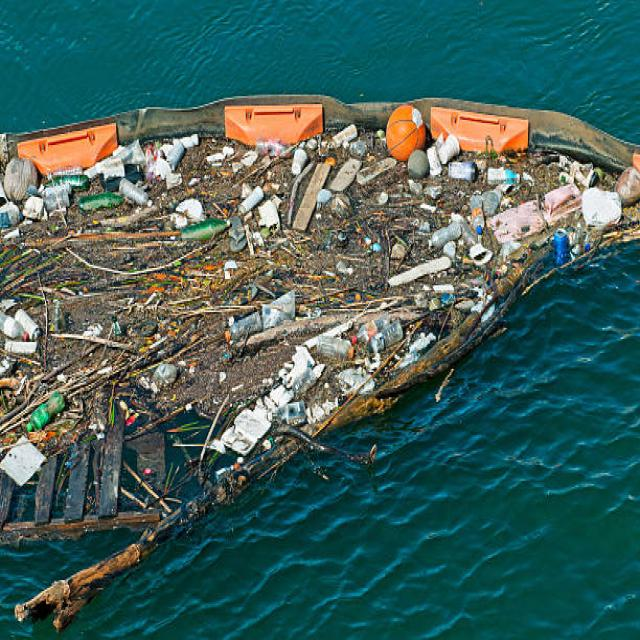garbage: (0, 86, 640, 482)
